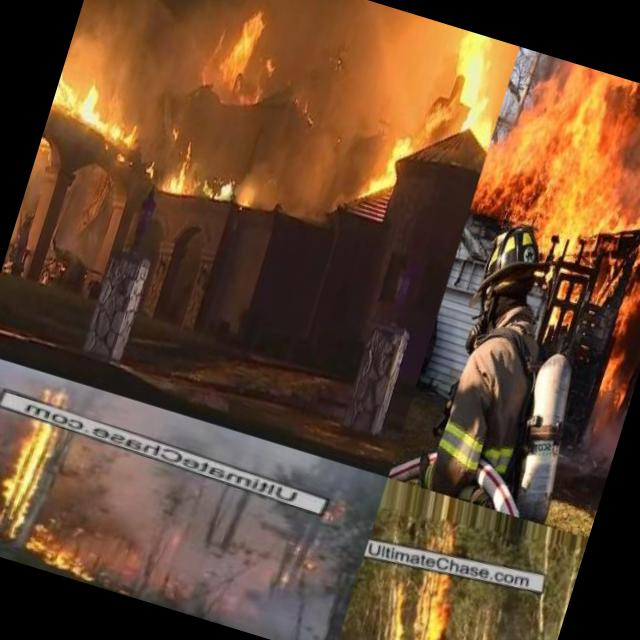fire: (497, 54, 640, 243), (0, 396, 84, 563), (431, 29, 519, 158), (200, 0, 291, 117), (153, 140, 265, 226), (44, 52, 142, 150), (361, 557, 466, 640), (347, 122, 426, 226), (18, 524, 116, 588), (469, 116, 526, 219), (609, 145, 640, 314), (596, 335, 634, 399)
smoke: (104, 508, 338, 640), (266, 0, 464, 138), (68, 445, 282, 552), (248, 100, 372, 253), (67, 0, 243, 92), (572, 387, 631, 475), (602, 80, 640, 200)
